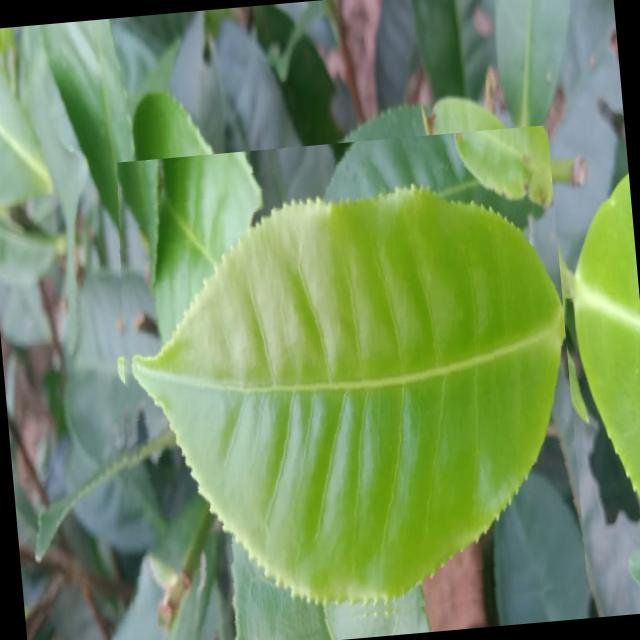Category B(2-4 days): (91, 123, 588, 640)
